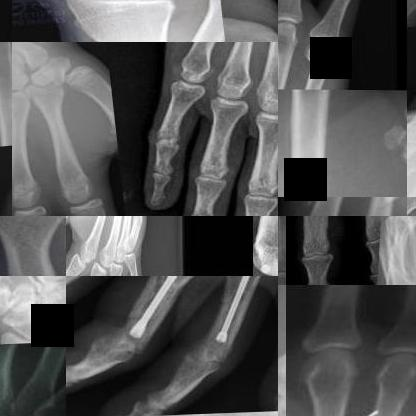fracture: (123, 276, 199, 345), (205, 276, 262, 354), (383, 226, 411, 269), (304, 40, 337, 72), (129, 216, 148, 235)
